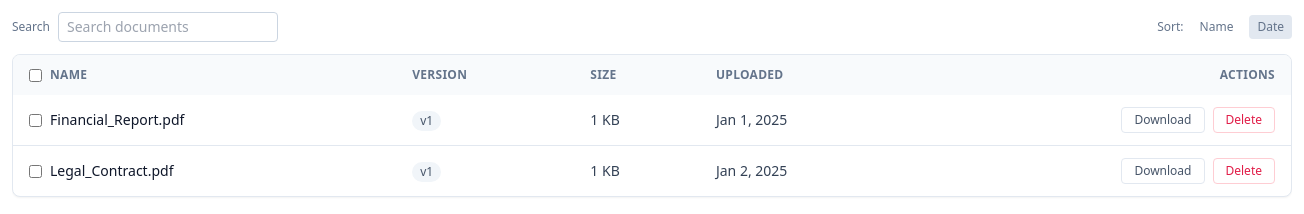
Test: DocumentList › should filter documents by search query
This screenshot has width=1304, height=214.
Type "Financial" into the search field with placeholder "Search documents".
click(168, 27); type("Financial")  # box x1=58 y1=12 x2=278 y2=42
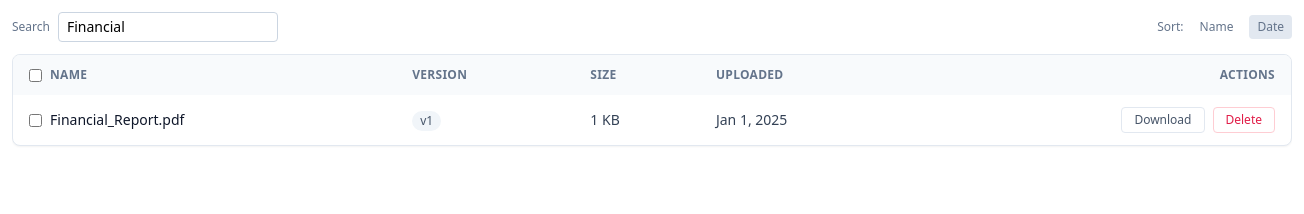
Expected: the text "Financial_Report.pdf" is shown, x1=50 y1=110 x2=184 y2=130
Result: the text "Legal_Contract.pdf" is gone
